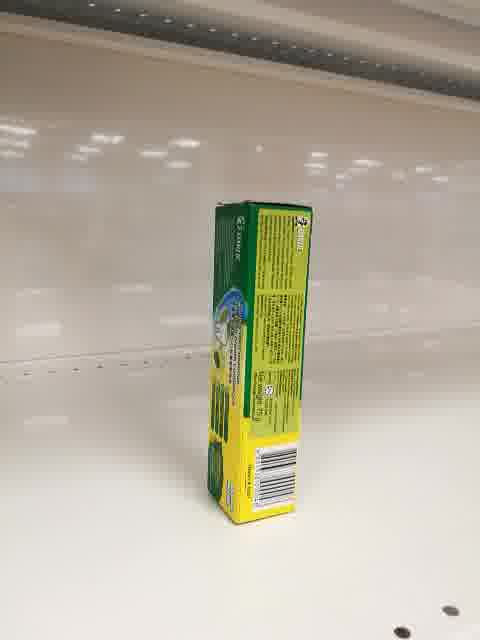toothpaste: (207, 199, 314, 526)
